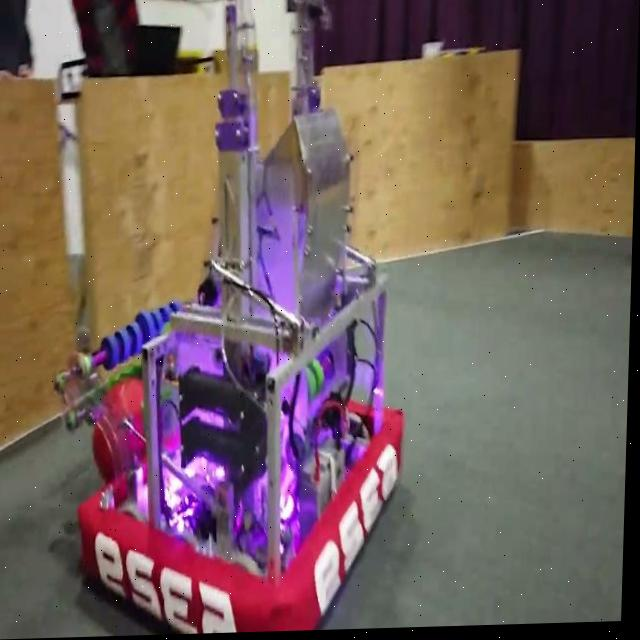robot: (48, 0, 419, 639)
